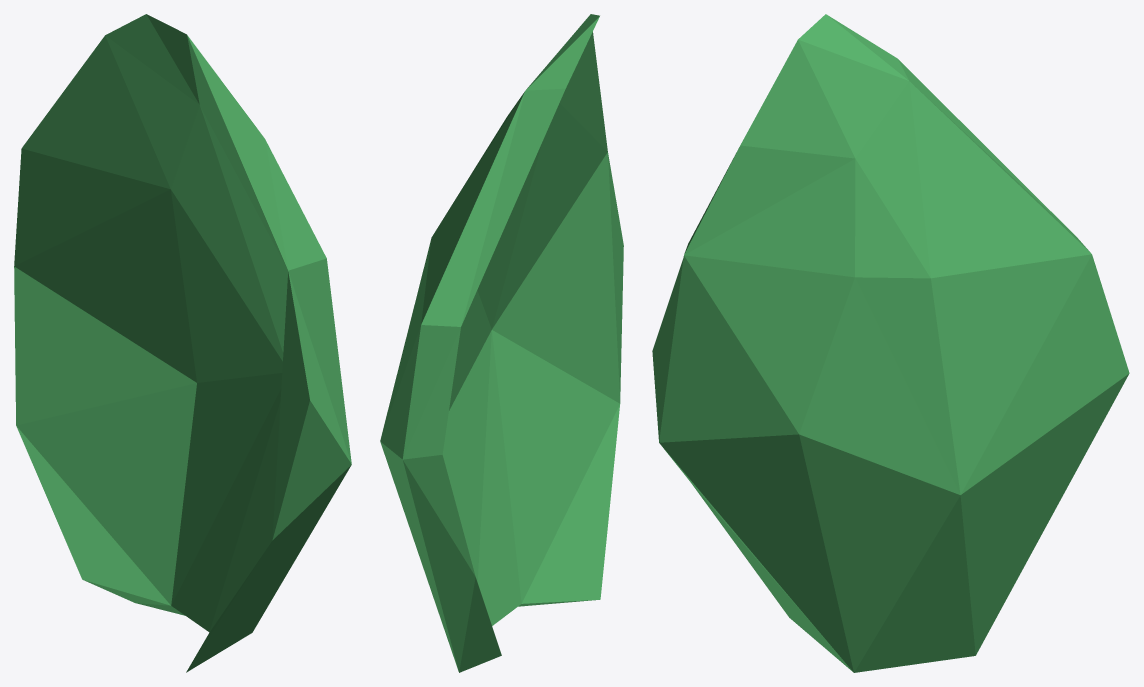
File: leaf_01.FBX
3 renders of one model, left to right at view 1: azimuth 30°, elevation 25°; view 2: azimuth 150°, elevation 25°; view 3: azimuth 270°, elevation 25°, orthographic. The views are drawn at different scales.
Parts seen in each view (by area): view 1: Object002; view 2: Object002; view 3: Object002.
Boxes of the visible parts, x1=… form: Object002: x1=14, y1=14, x2=351, y2=672; Object002: x1=380, y1=14, x2=623, y2=672; Object002: x1=652, y1=14, x2=1129, y2=672.
Size of the model in its own units: 22.26 by 82.55 by 58.49.
